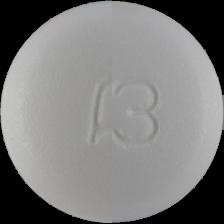65862-009: (0, 0, 224, 224)
